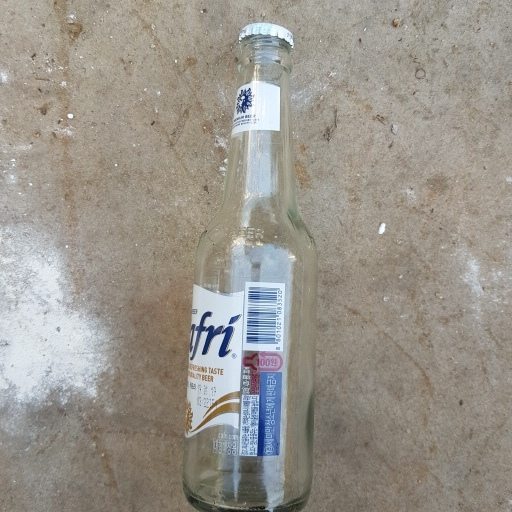Glass_1: (183, 22, 320, 512)
